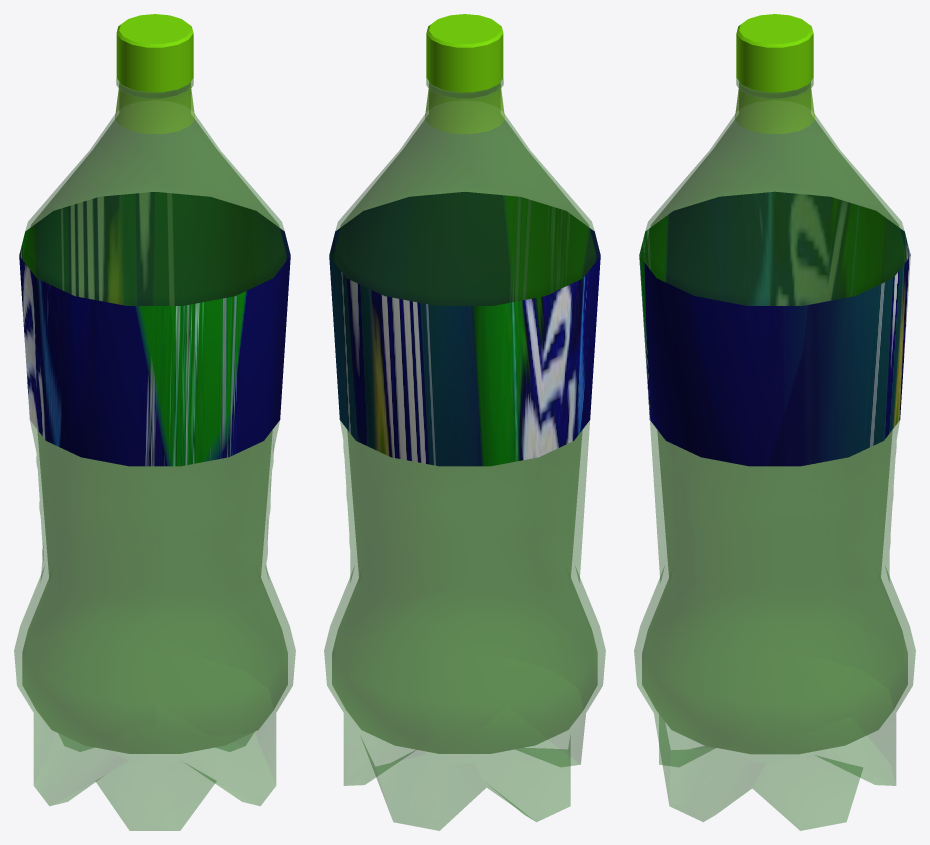
3 renders of one model, left to right at view 1: azimuth 30°, elevation 25°; view 2: azimuth 150°, elevation 25°; view 3: azimuth 270°, elevation 25°, orthographic.
Parts seen in each view (by area): view 1: Mesh; view 2: Mesh; view 3: Mesh.
Boxes of the visible parts, x1,y1,x2,y2 form: Mesh: [14, 14, 295, 830]; Mesh: [324, 14, 605, 830]; Mesh: [634, 14, 915, 830].
Size of the model in its own units: 1.08 by 3.2 by 1.09.
Materials: 5 (1 with a texture image).
